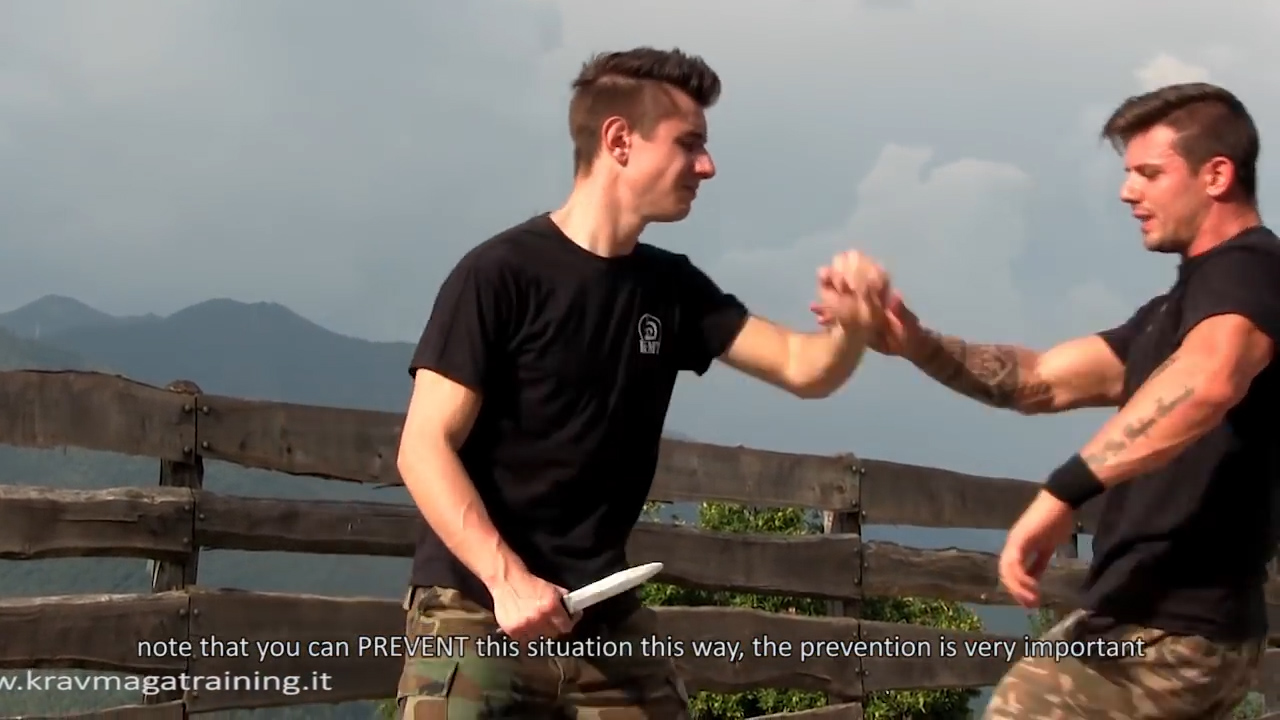knife: (488, 548, 678, 650)
